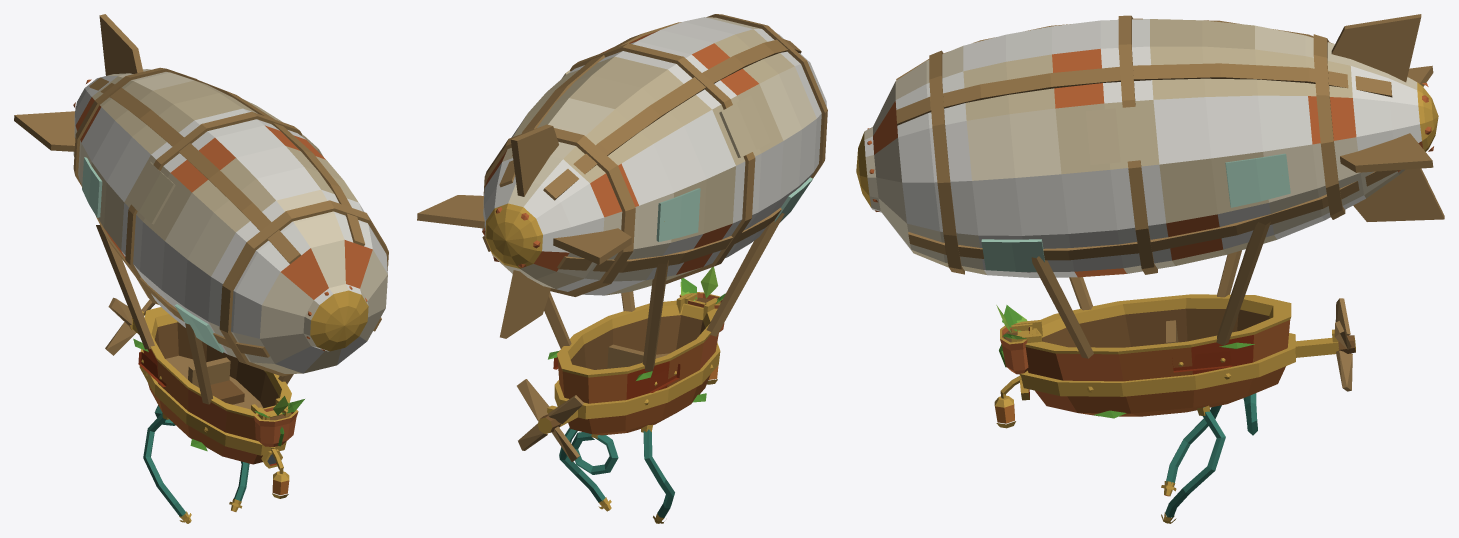
File: lighter-than-air-tender-0c7361.glb
3 views of the same model, side by side, from view 1: azimuth 30°, elevation 25°; view 2: azimuth 150°, elevation 25°; view 3: azimuth 270°, elevation 25° (orthographic). The views are drawn at different scales.
Parts seen in each view (by area): view 1: tender, planter-mesh, hose-mesh-l, prop-mesh, hose-mesh-r, lamp-mesh; view 2: tender, prop-mesh, planter-mesh, hose-mesh-l, hose-mesh-r; view 3: tender, planter-mesh, hose-mesh-r, prop-mesh, hose-mesh-l.
Part boxes in pixels (<box>): tender: <box>14,14,388,469</box>; planter-mesh: <box>251,396,304,446</box>; hose-mesh-l: <box>143,413,191,523</box>; prop-mesh: <box>105,297,154,355</box>; hose-mesh-r: <box>229,461,249,511</box>; lamp-mesh: <box>272,468,289,498</box>; tender: <box>417,14,827,474</box>; prop-mesh: <box>517,379,583,461</box>; planter-mesh: <box>676,267,725,332</box>; hose-mesh-l: <box>641,424,674,523</box>; hose-mesh-r: <box>559,427,611,511</box>; tender: <box>856,14,1444,435</box>; planter-mesh: <box>996,305,1042,374</box>; hose-mesh-r: <box>1161,405,1225,523</box>; prop-mesh: <box>1334,298,1355,391</box>; hose-mesh-l: <box>1161,405,1221,496</box>.
Size of the model in its own units: 1.66 by 3.54 by 3.82.
